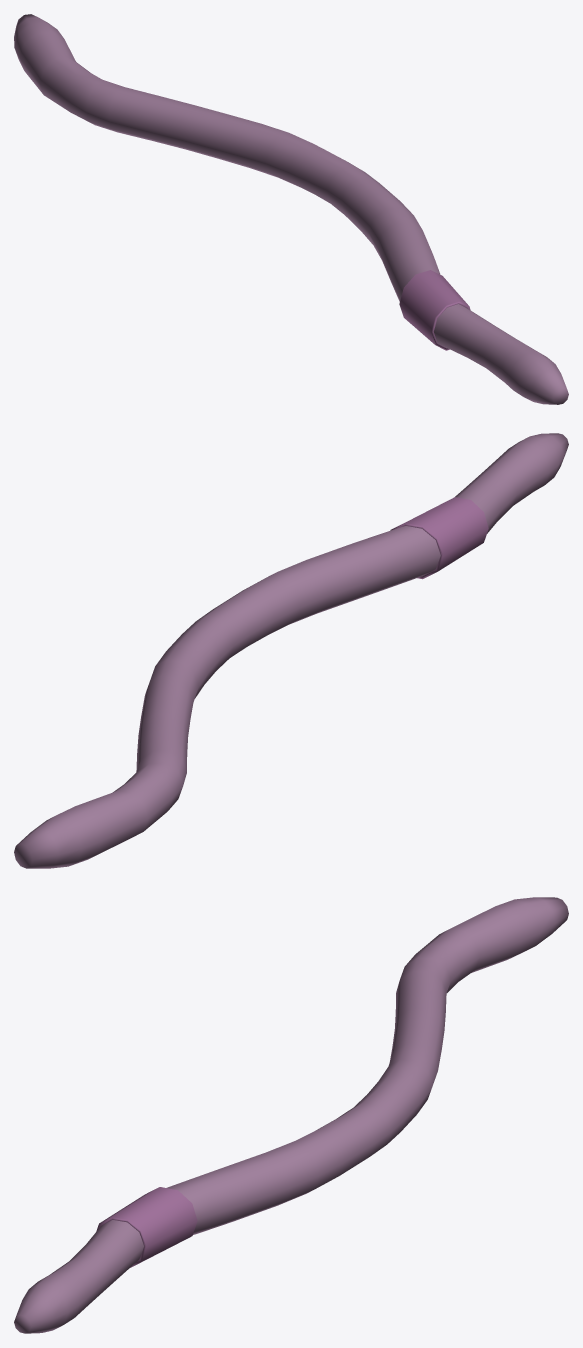
Rendered from earthwarm.fbx.
The picture shows the model from 3 angles, top to bottom: view 1: azimuth 30°, elevation 25°; view 2: azimuth 150°, elevation 25°; view 3: azimuth 330°, elevation 25°; orthographic projection. The views are drawn at different scales.
Visible parts, largest first — view 1: earthwarm1; view 2: earthwarm1; view 3: earthwarm1.
Boxes of the visible parts, bbox=[...] form: earthwarm1: bbox=[14, 14, 568, 404]; earthwarm1: bbox=[14, 433, 568, 868]; earthwarm1: bbox=[14, 897, 568, 1333].
Size of the model in its own units: 0.839 by 0.2709 by 5.18.
